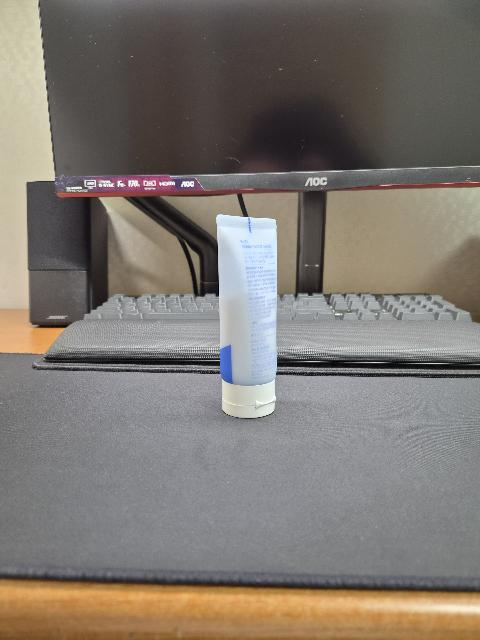handcream: (216, 214, 277, 418)
